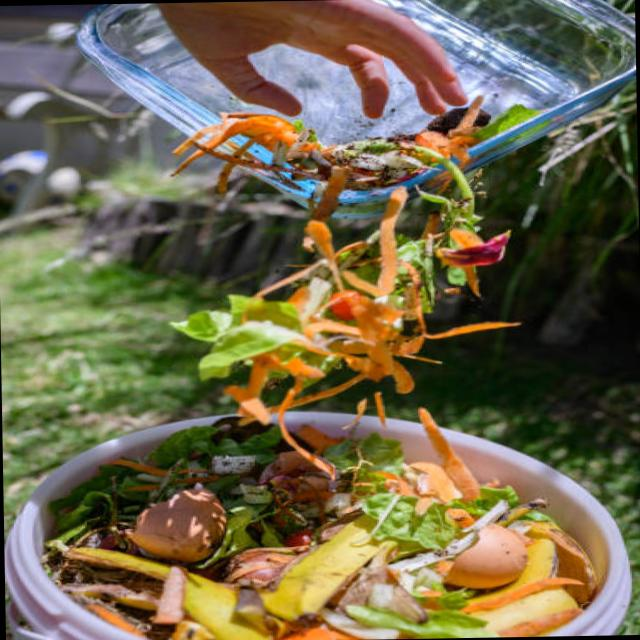paper: (186, 300, 340, 387), (120, 480, 226, 578)
